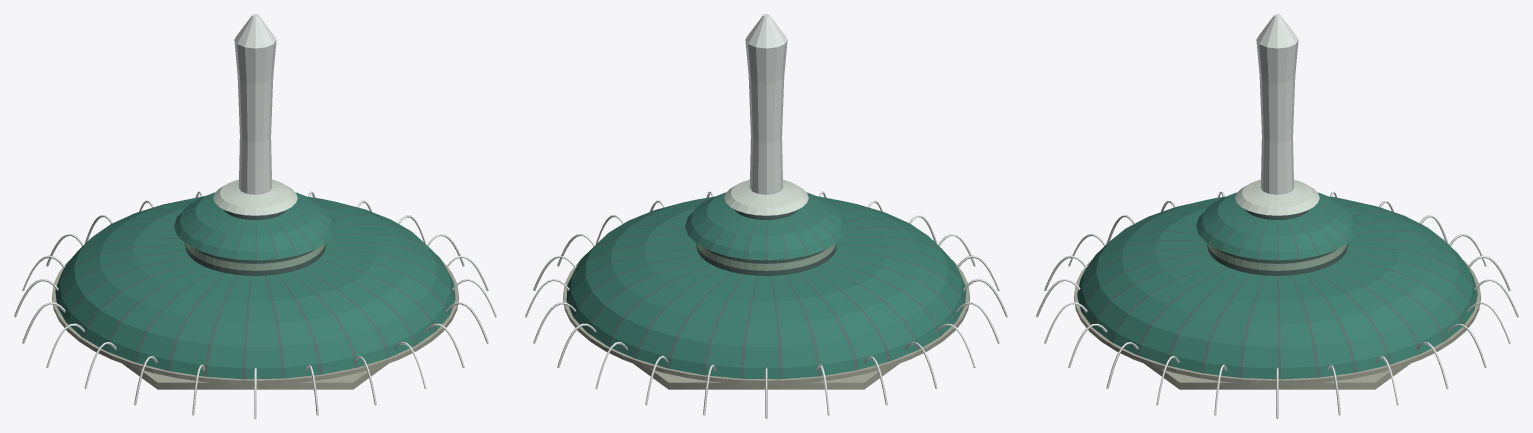
Rendered from lake-eola-fountain-near.glb.
3 views of the same model, side by side, from view 1: azimuth 30°, elevation 25°; view 2: azimuth 150°, elevation 25°; view 3: azimuth 270°, elevation 25° (orthographic).
Visible parts, largest first — view 1: lake-eola-fountain-0-panel, lake-eola-fountain-0-water, lake-eola-fountain-0-frame, lake-eola-fountain-0-concrete, lake-eola-fountain-0-light, lake-eola-fountain-0-glow; view 2: lake-eola-fountain-0-panel, lake-eola-fountain-0-water, lake-eola-fountain-0-frame, lake-eola-fountain-0-concrete, lake-eola-fountain-0-light, lake-eola-fountain-0-glow; view 3: lake-eola-fountain-0-panel, lake-eola-fountain-0-water, lake-eola-fountain-0-frame, lake-eola-fountain-0-concrete, lake-eola-fountain-0-light, lake-eola-fountain-0-glow.
Boxes of the visible parts, left/top/right/bottom form: lake-eola-fountain-0-panel: left=55, top=192, right=455, bottom=379; lake-eola-fountain-0-water: left=14, top=14, right=496, bottom=418; lake-eola-fountain-0-frame: left=55, top=192, right=455, bottom=379; lake-eola-fountain-0-concrete: left=52, top=260, right=458, bottom=389; lake-eola-fountain-0-light: left=213, top=179, right=297, bottom=215; lake-eola-fountain-0-glow: left=186, top=244, right=324, bottom=270; lake-eola-fountain-0-panel: left=566, top=192, right=966, bottom=379; lake-eola-fountain-0-water: left=525, top=14, right=1007, bottom=418; lake-eola-fountain-0-frame: left=566, top=192, right=964, bottom=379; lake-eola-fountain-0-concrete: left=563, top=260, right=969, bottom=389; lake-eola-fountain-0-light: left=724, top=179, right=808, bottom=215; lake-eola-fountain-0-glow: left=697, top=244, right=835, bottom=270; lake-eola-fountain-0-panel: left=1077, top=192, right=1477, bottom=379; lake-eola-fountain-0-water: left=1036, top=14, right=1518, bottom=418; lake-eola-fountain-0-frame: left=1077, top=192, right=1477, bottom=379; lake-eola-fountain-0-concrete: left=1074, top=259, right=1480, bottom=389; lake-eola-fountain-0-light: left=1235, top=179, right=1319, bottom=215; lake-eola-fountain-0-glow: left=1208, top=244, right=1346, bottom=270.
Size of the model in its own units: 21.7 by 15 by 21.7.
